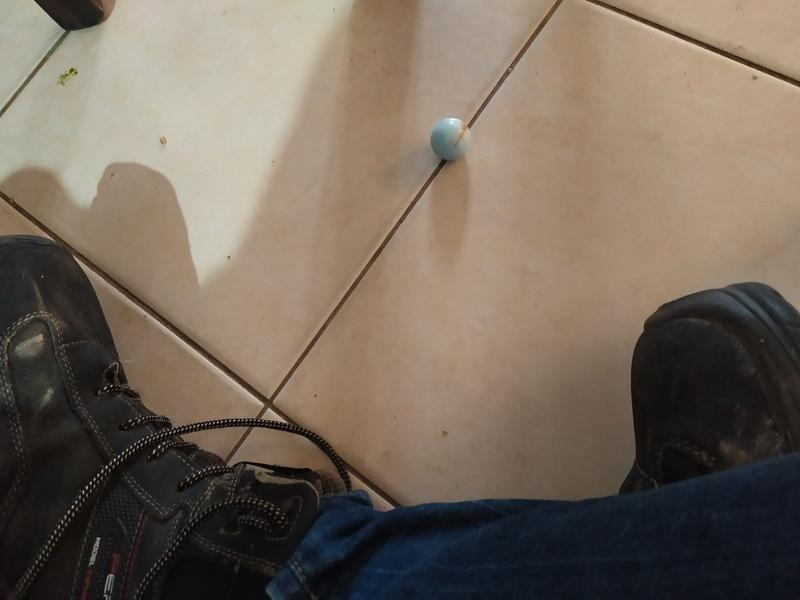Warning: (429, 115, 473, 162)
